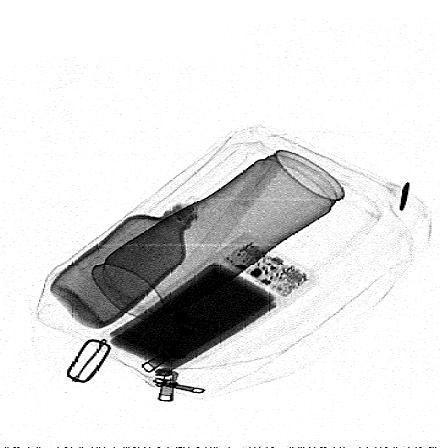Powerbank: (102, 233, 314, 376)
